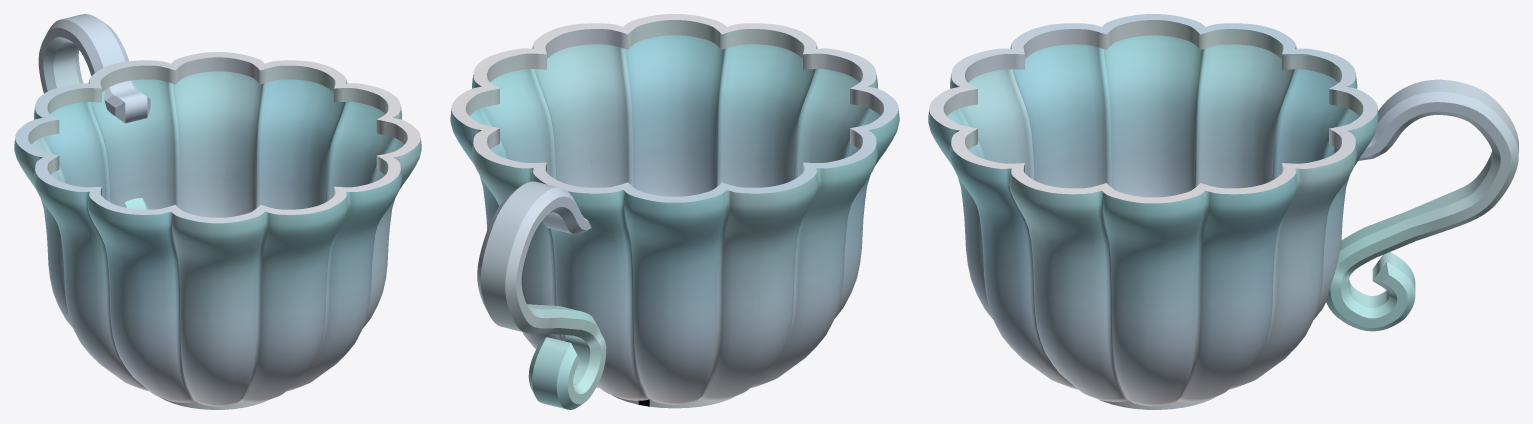
File: blue_cup.fbx
3 views of the same model, side by side, from view 1: azimuth 30°, elevation 25°; view 2: azimuth 150°, elevation 25°; view 3: azimuth 270°, elevation 25° (orthographic). The views are drawn at different scales.
Visible parts, largest first — view 1: Cylinder012; view 2: Cylinder012; view 3: Cylinder012.
Boxes of the visible parts, x1=… form: Cylinder012: x1=14, y1=14, x2=421, y2=409; Cylinder012: x1=450, y1=14, x2=899, y2=409; Cylinder012: x1=928, y1=14, x2=1518, y2=409.
Size of the model in its own units: 153 by 109 by 201.
1 material, 1 textured.
